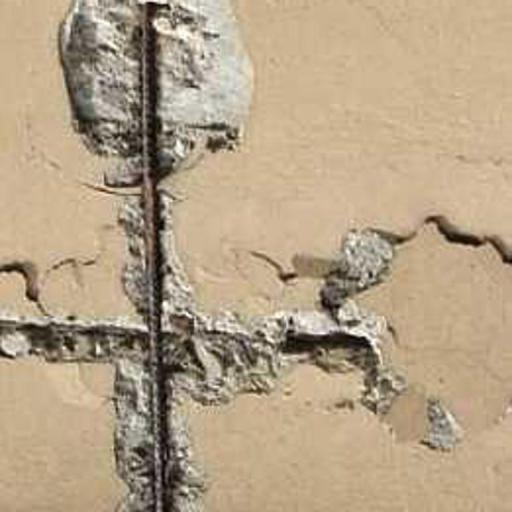spalling: (1, 0, 453, 512)
